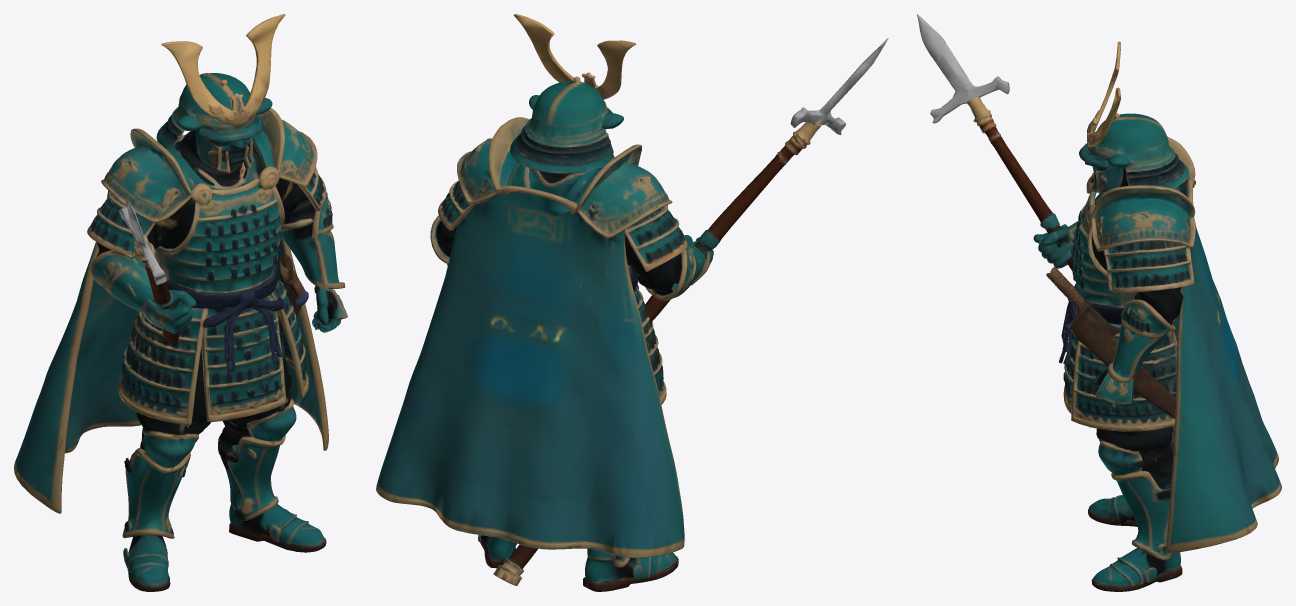
Rendered from detail_10.glb.
3 views of the same model, side by side, from view 1: azimuth 30°, elevation 25°; view 2: azimuth 150°, elevation 25°; view 3: azimuth 270°, elevation 25° (orthographic). The views are drawn at different scales.
Bounding box in the file's own units: 0.6837 × 0.9993 × 0.6833.
1 material, 1 textured.
